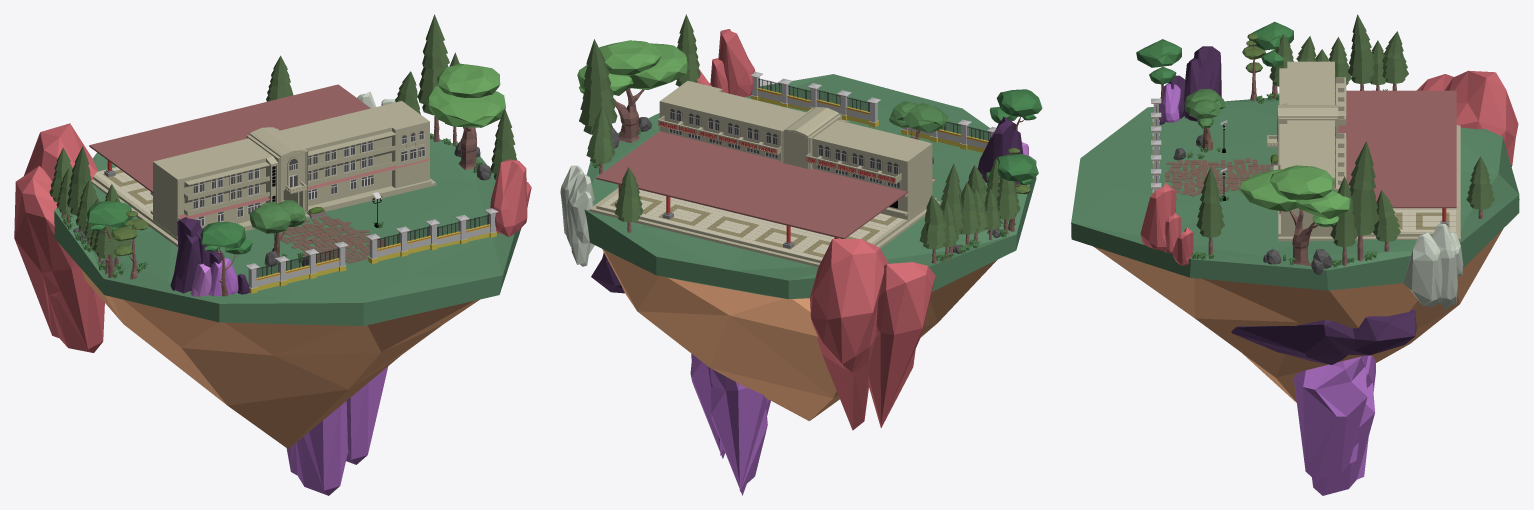
File: haha.fbx
3 renders of one model, left to right at view 1: azimuth 30°, elevation 25°; view 2: azimuth 150°, elevation 25°; view 3: azimuth 270°, elevation 25°, orthographic. The views are drawn at different scales.
Visible parts, largest first — view 1: Icosphere, Cube.110, leaves, Icosphere.009, tree.013, tree1, Cylinder.007, tree1.001, Icosphere.005, gate.004, tree.011, tree (+12 smaller); view 2: Icosphere, Cube.110, leaves, tree.013, Icosphere.009, Cylinder.007, tree1, tree1.001, tree.006, tree.009, tree.012, Icosphere.012 (+13 smaller); view 3: Icosphere, Cube.110, leaves, Icosphere.014, tree.013, Icosphere.009, tree.011, tree1, Icosphere.012, Cylinder.007, tree.007, tree1.001 (+13 smaller).
Part boxes in pixels (x1,y1,x2,y2): Icosphere: (14,123,521,495); Cube.110: (89,84,436,246); leaves: (427,63,505,169); Icosphere.009: (490,159,527,236); tree.013: (417,14,449,141); tree1: (200,221,252,296); Cylinder.007: (249,200,306,261); tree1.001: (87,201,136,277); Icosphere.005: (170,234,201,293); gate.004: (366,227,408,264); tree.011: (490,109,517,180); tree: (111,211,148,279); Icosphere: (584,74,1036,495); Cube.110: (589,81,940,267); leaves: (577,40,688,142); tree.013: (579,39,617,134); Icosphere.009: (718,29,755,97); Cylinder.007: (889,101,947,139); tree1: (989,89,1042,130); tree1.001: (986,154,1038,231); tree.006: (919,195,947,263); tree.009: (586,107,614,174); tree.012: (614,167,643,232); Icosphere.012: (567,174,594,266); Icosphere: (1071,70,1519,495); Cube.110: (1267,61,1460,241); leaves: (1239,165,1351,265); Icosphere.014: (1403,232,1442,306); tree.013: (1348,141,1379,261); Icosphere.009: (1140,182,1176,250); tree.011: (1196,167,1224,256); tree1: (1136,39,1181,103); Icosphere.012: (1432,223,1457,309); Cylinder.007: (1184,88,1225,150); tree.007: (1348,14,1374,90); tree1.001: (1249,21,1293,98).
Size of the model in its own units: 5729 by 5487 by 5374.
